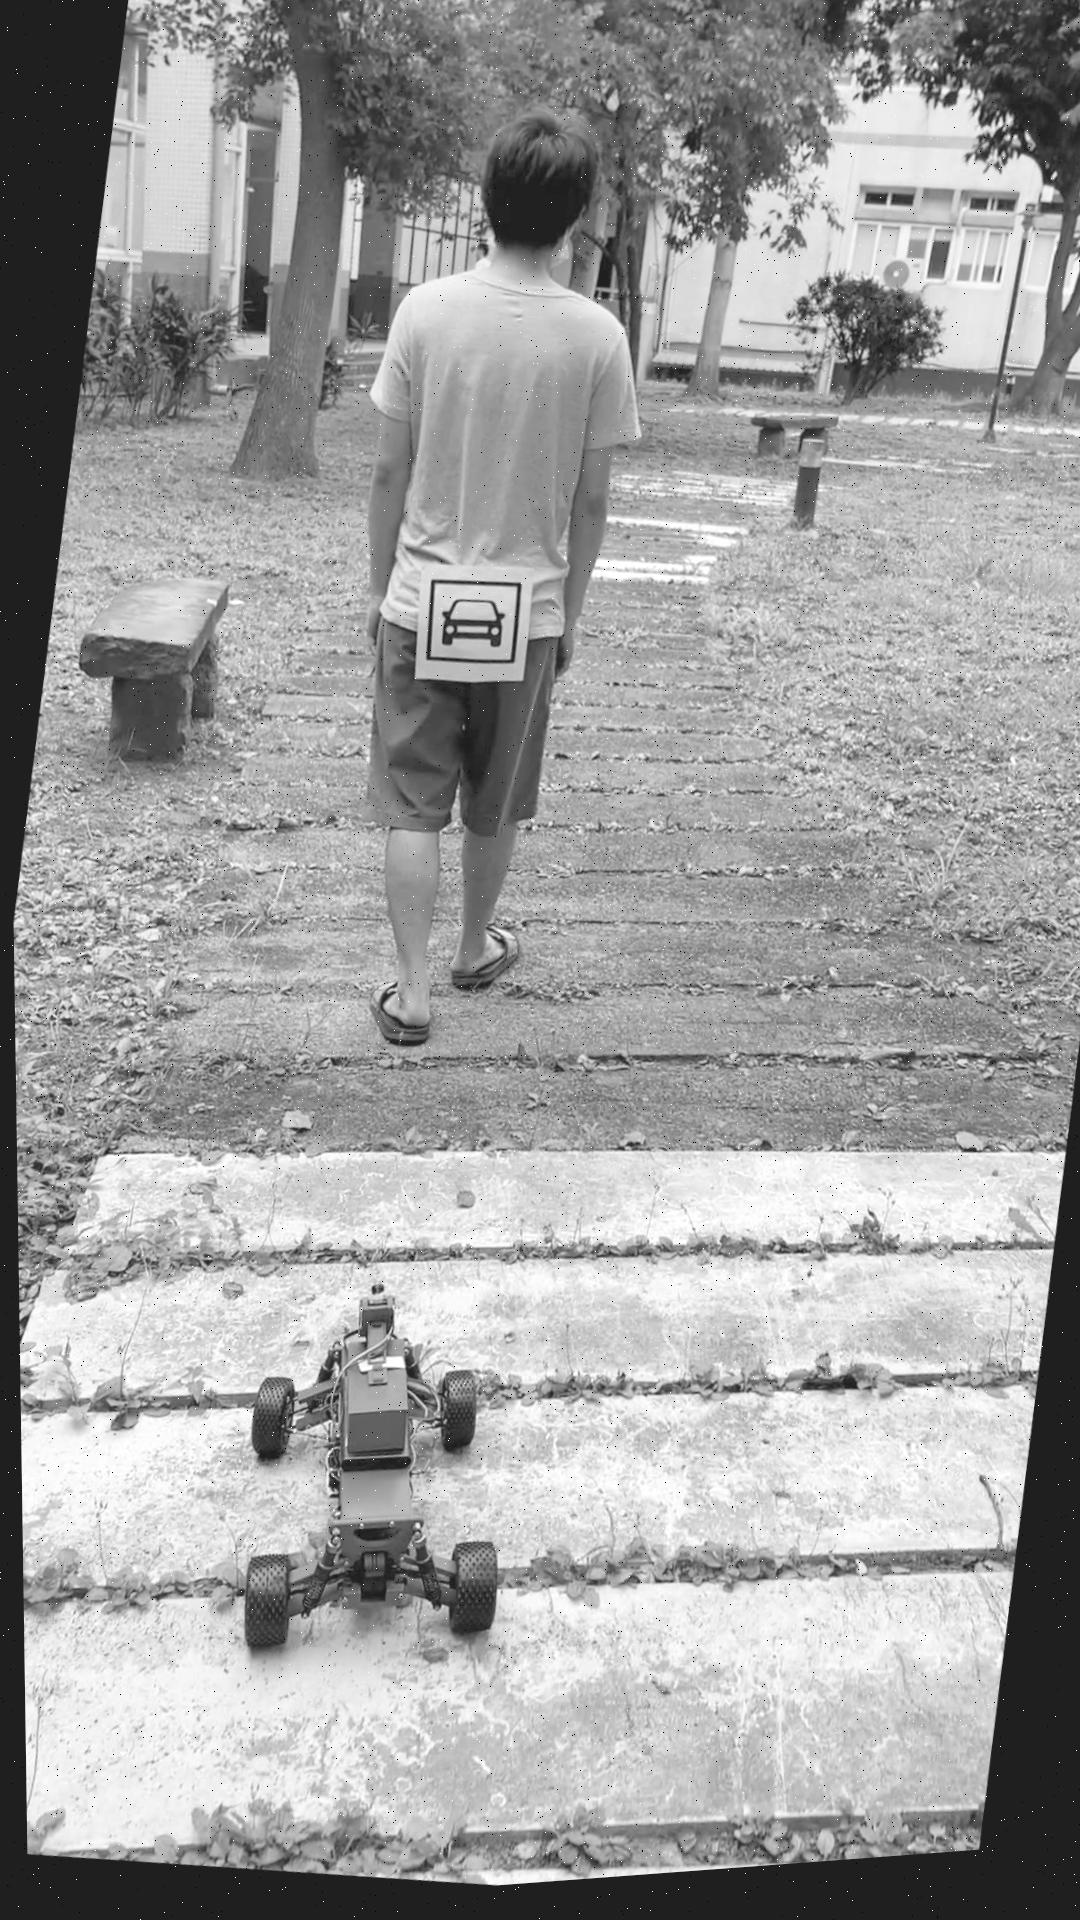car_img: (417, 576, 525, 679)
